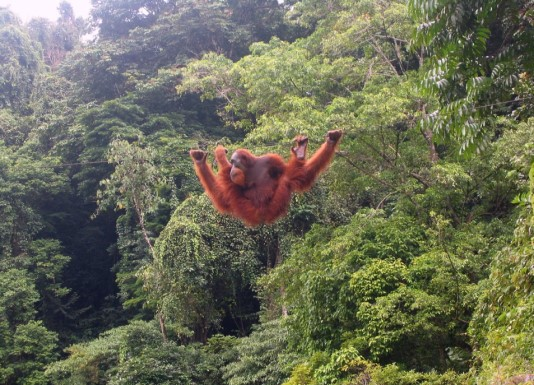Orangutan: (186, 126, 343, 234)
